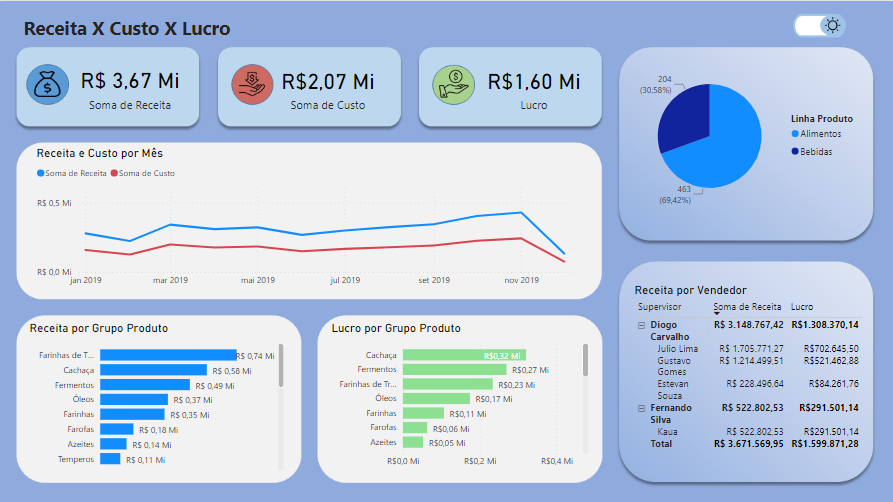

This screenshot's page, from the dashboard's own definition file:
{"tool":"powerbi","page":{"name":"Light","canvas":[1280,720],"ordinal":1},"visuals":[{"type":"card","fields":{"Values":["Sum(Receita.Receita)"]},"box":[84.3,71.4,205.7,101.4],"z":0},{"type":"clusteredBarChart","title":"Receita por Grupo Produto","fields":{"Category":["Cadastro de Produtos.Grupo Produto"],"Y":["Sum(Receita.Receita)"]},"box":[38.6,457.1,372.9,218.6],"z":1000},{"type":"pieChart","fields":{"Category":["Cadastro de Produtos.Linha Produto"],"Y":["CountNonNull(Cadastro de Produtos.Linha Produto)"]},"box":[894.3,71.4,347.1,242.9],"z":2000},{"type":"card","fields":{"Values":["Sum(Receita.Custo)"]},"box":[340,67.1,260,111.4],"z":3000},{"type":"card","fields":{"Values":["Receita.Margem"]},"box":[634.3,67.1,260,111.4],"z":4000},{"type":"lineChart","title":"Receita e Custo por Mês","fields":{"Category":["Receita.Data.1.Variation.Hierarquia de datas.Ano","Receita.Data.1.Variation.Hierarquia de datas.Trimestre","Receita.Data.1.Variation.Hierarquia de datas.Mês","Receita.Data.1.Variation.Hierarquia de datas.Dia"],"Y":["Sum(Receita.Receita)","Sum(Receita.Custo)"]},"box":[48.6,207.1,788.6,210],"z":5000},{"type":"pivotTable","title":"Receita por Vendedor","fields":{"Rows":["Receita.Supervisor","Receita.Vendedor"],"Values":["Sum(Receita.Receita)","Receita.Lucro"]},"box":[902.9,402.9,338.6,288.6],"z":6000},{"type":"clusteredBarChart","title":"Lucro por Grupo Produto","fields":{"Category":["Cadastro de Produtos.Grupo Produto"],"Y":["Receita.Lucro"]},"box":[470,457.1,377.1,218.6],"z":7000},{"type":"textbox","box":[30,14.3,440,57.1],"z":8000},{"type":"actionButton","box":[1132.9,14.3,77.1,40],"z":9000}]}

Visuals, with their boxes in screenshot pixels (x1, y1, x2, y2), scaled from the page's 1280x720 canvas onto the 893x502 screenshot:
card - Sum(Receita.Receita): (59, 50, 202, 120)
"Receita por Grupo Produto" clusteredBarChart: (27, 319, 287, 471)
pieChart - Cadastro de Produtos.Linha Produto x CountNonNull(Cadastro de Produtos.Linha Produto): (624, 50, 866, 219)
card - Sum(Receita.Custo): (237, 47, 419, 124)
card - Receita.Margem: (443, 47, 624, 124)
"Receita e Custo por Mês" lineChart: (34, 144, 584, 291)
"Receita por Vendedor" pivotTable: (630, 281, 866, 482)
"Lucro por Grupo Produto" clusteredBarChart: (328, 319, 591, 471)
textbox: (21, 10, 328, 50)
actionButton: (790, 10, 844, 38)
